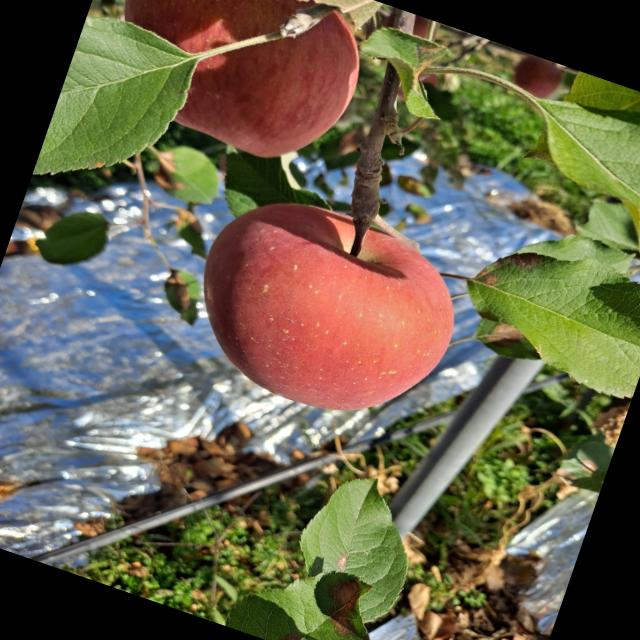fresh: (167, 162, 492, 451)
